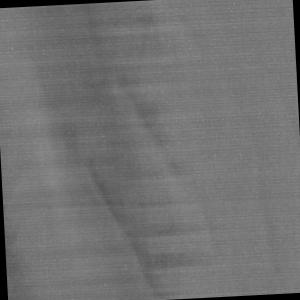Wrinkle: (22, 1, 228, 300)
